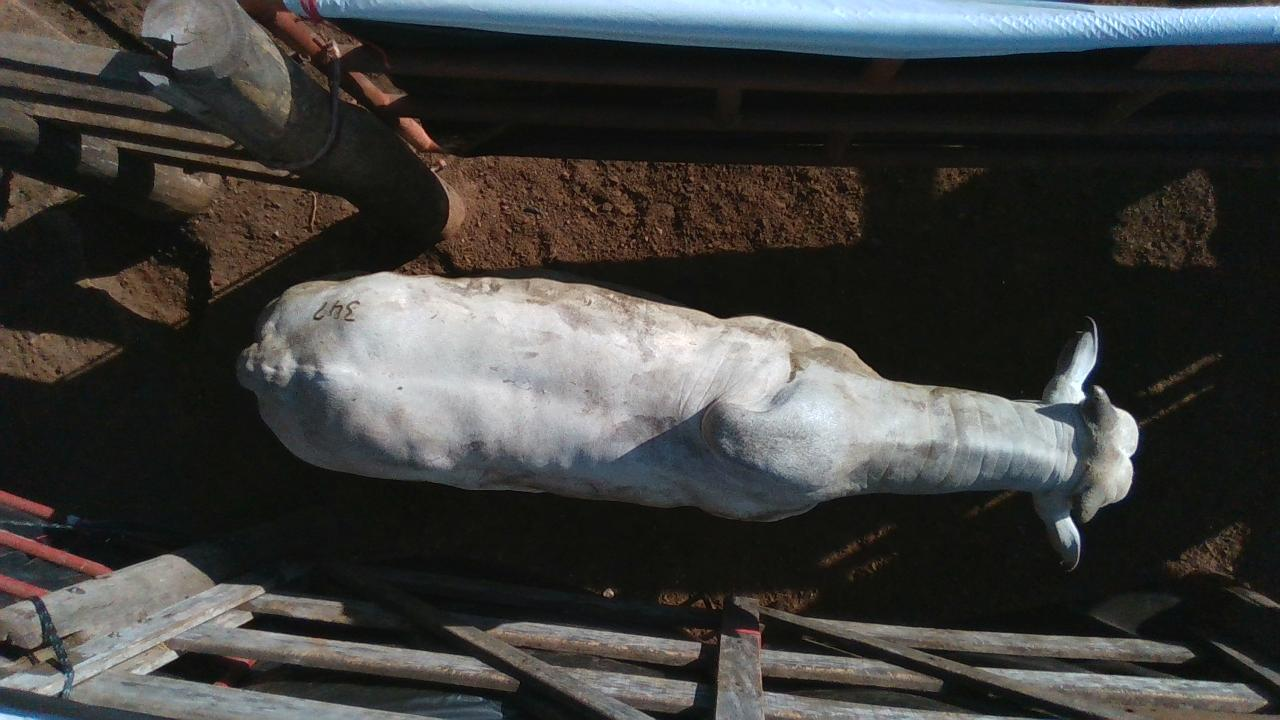cattle: (234, 268, 1140, 572)
